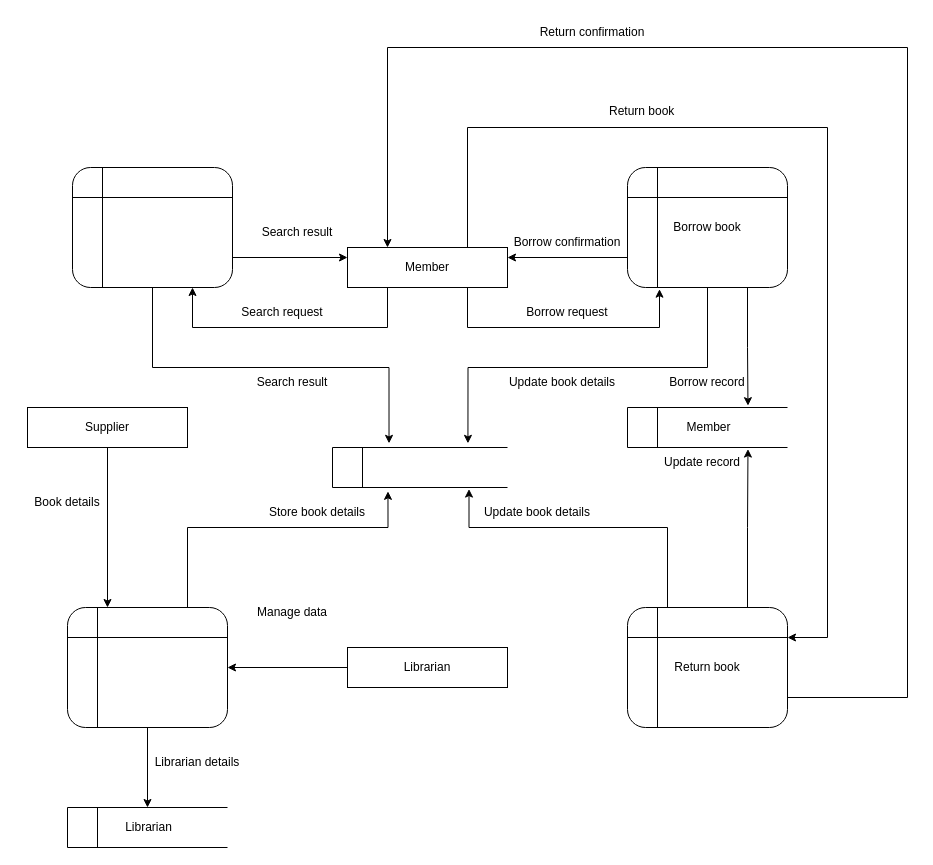
This 933x865 diagram has some shape labels left out. Each missing label, with the box of its shape:
Book: (332, 446, 508, 488)
Manage: (66, 606, 228, 728)
Search book: (72, 166, 232, 288)
